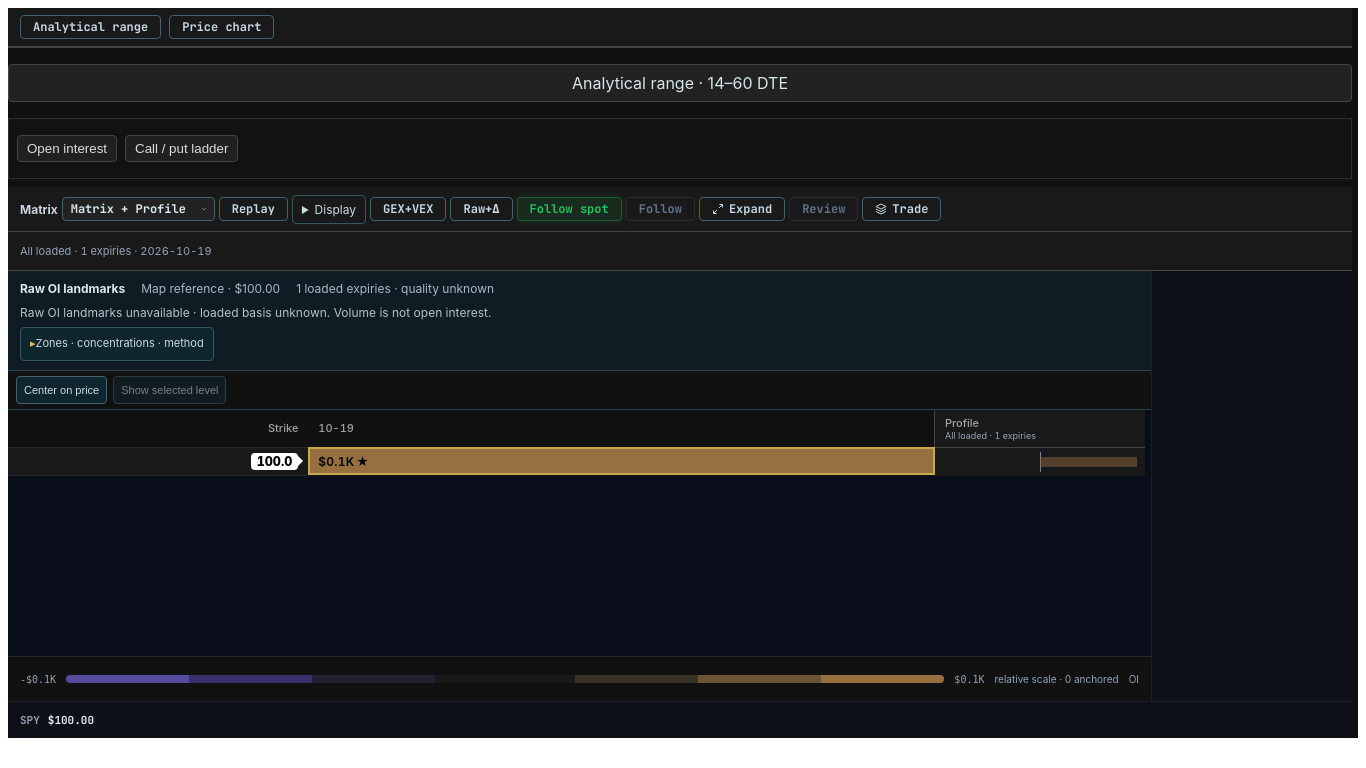
Test: the successful expansion label counts returned expiry dates rather than the requested cap
Click the button with test id "skylit-expand-btn".
click(742, 209)  # box [699,197,785,221]
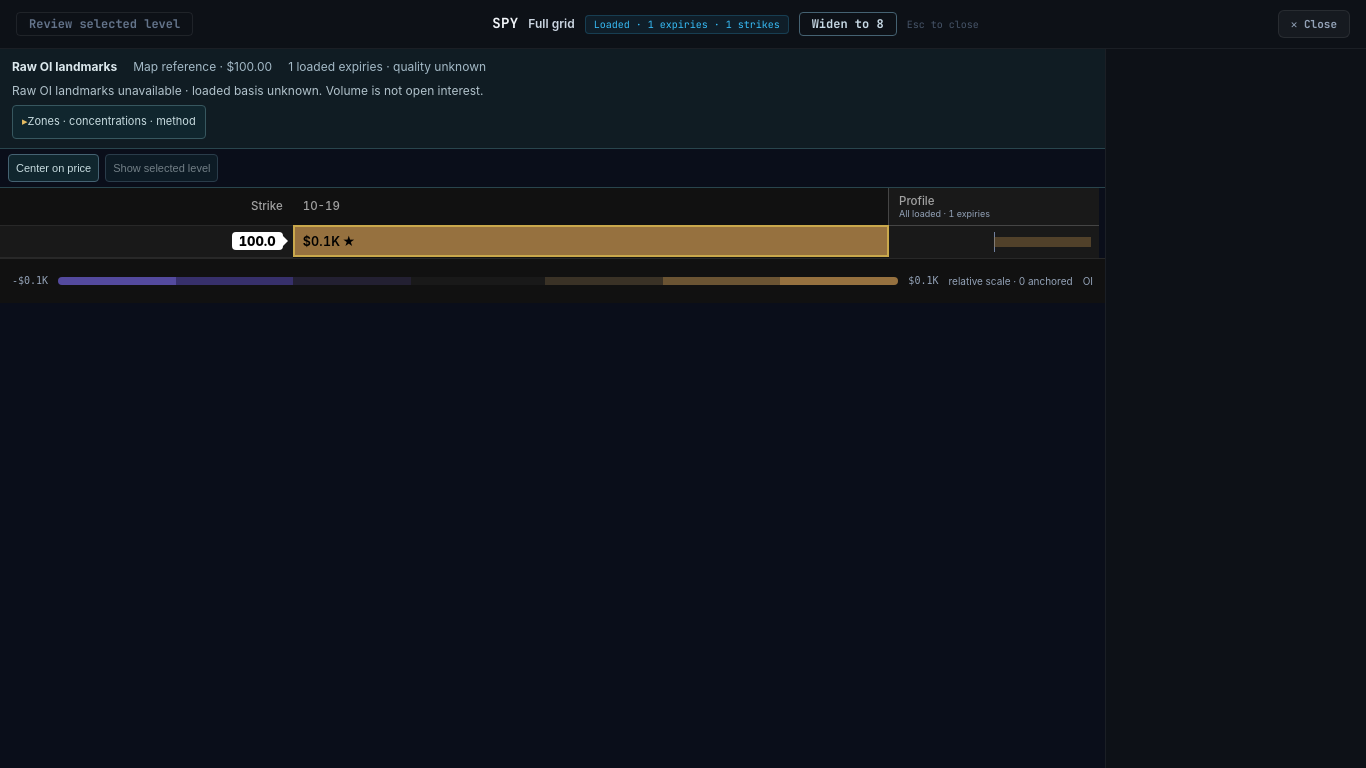
Click the button with test id "skylit-expand-widen".
click(848, 24)  # box [799,12,897,36]
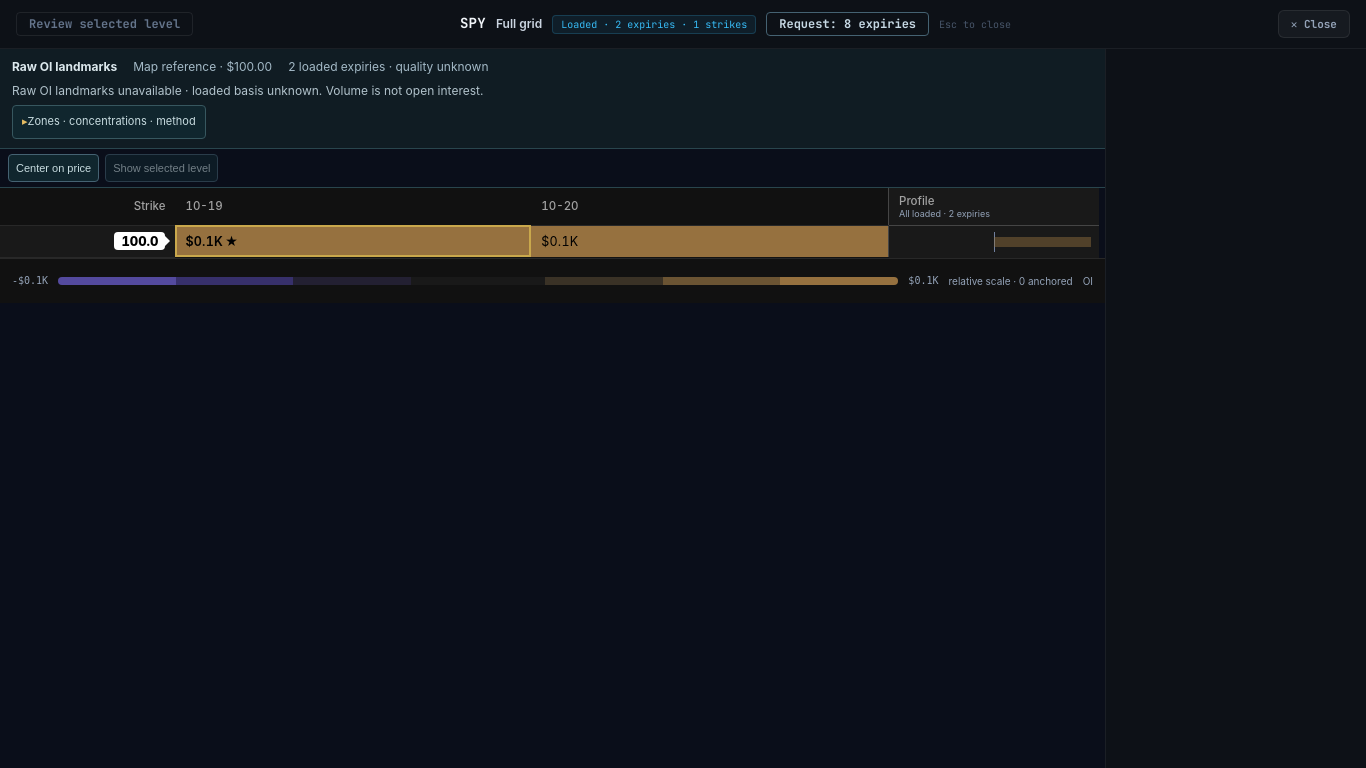
expect the text with class "skylit-expanded-coverage" does not show "8 expiries": met, box [552,15,756,34]
expect the text with class "skylit-expanded-coverage" shows "2 expiries · 1 strikes": met, box [561,18,747,31]
